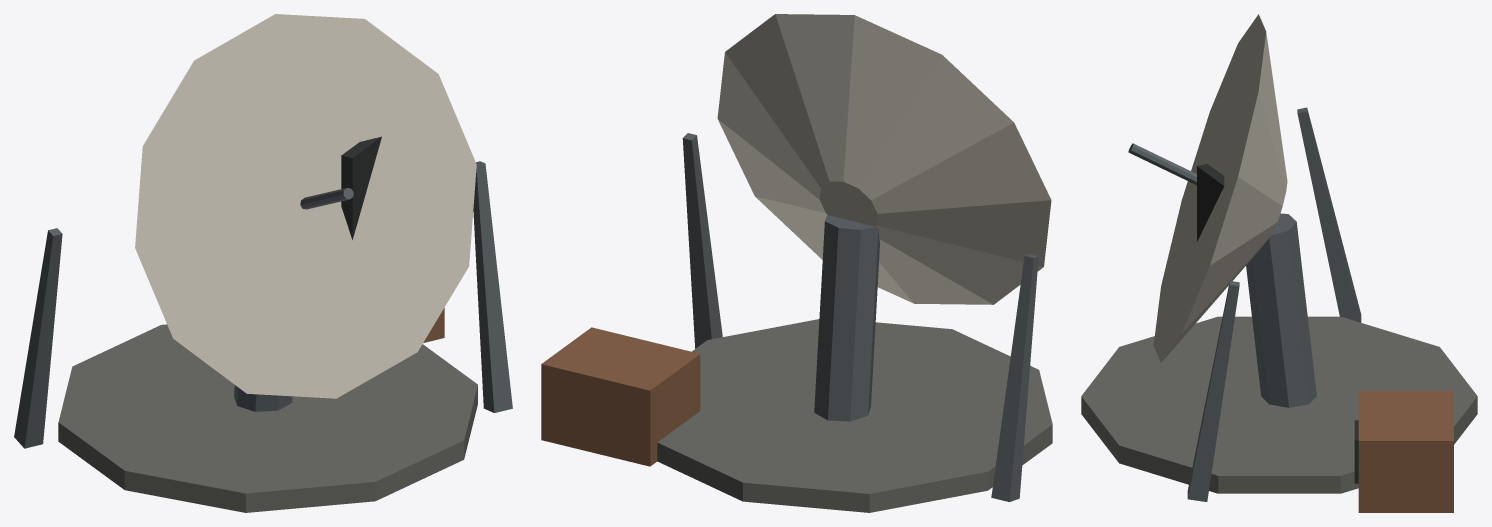
File: wm_array.glb
3 renders of one model, left to right at view 1: azimuth 30°, elevation 25°; view 2: azimuth 150°, elevation 25°; view 3: azimuth 270°, elevation 25°, orthographic. The views are drawn at different scales.
Parts seen in each view (by area): view 1: dish, base, pylon1, pylon0, gash, column, feed; view 2: dish, base, shed, column, pylon0, pylon1; view 3: base, dish, shed, column, pylon1, pylon0, gash, feed.
Part boxes in pixels (bbox=[...]): dish: bbox=[135, 14, 476, 398]; base: bbox=[58, 324, 477, 512]; pylon1: bbox=[473, 161, 512, 412]; pylon0: bbox=[14, 228, 62, 448]; gash: bbox=[341, 136, 381, 239]; column: bbox=[234, 385, 292, 411]; feed: bbox=[300, 188, 353, 209]; dish: bbox=[717, 14, 1051, 304]; base: bbox=[657, 319, 1052, 512]; shed: bbox=[541, 327, 700, 466]; column: bbox=[814, 215, 879, 421]; pylon0: bbox=[991, 254, 1038, 501]; pylon1: bbox=[682, 133, 722, 348]; base: bbox=[1081, 316, 1477, 493]; dish: bbox=[1153, 14, 1287, 362]; shed: bbox=[1358, 391, 1453, 512]; column: bbox=[1246, 213, 1316, 407]; pylon1: bbox=[1187, 281, 1239, 501]; pylon0: bbox=[1297, 107, 1361, 322]; gash: bbox=[1197, 163, 1224, 241]; feed: bbox=[1128, 143, 1196, 185].
Size of the model in its own units: 11.55 by 10.66 by 10.
